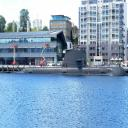submarine: (22, 50, 128, 77)
